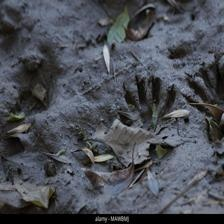raccoon: (113, 70, 178, 140)
